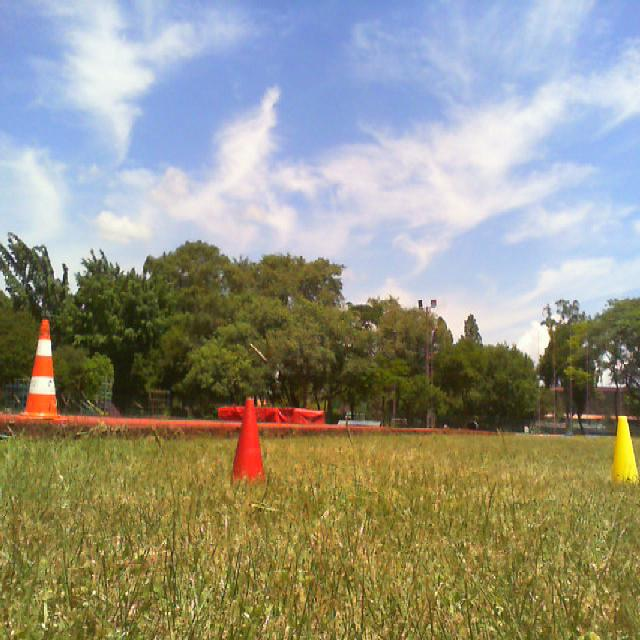cone: (19, 320, 59, 419), (230, 399, 264, 484), (610, 416, 639, 483)
